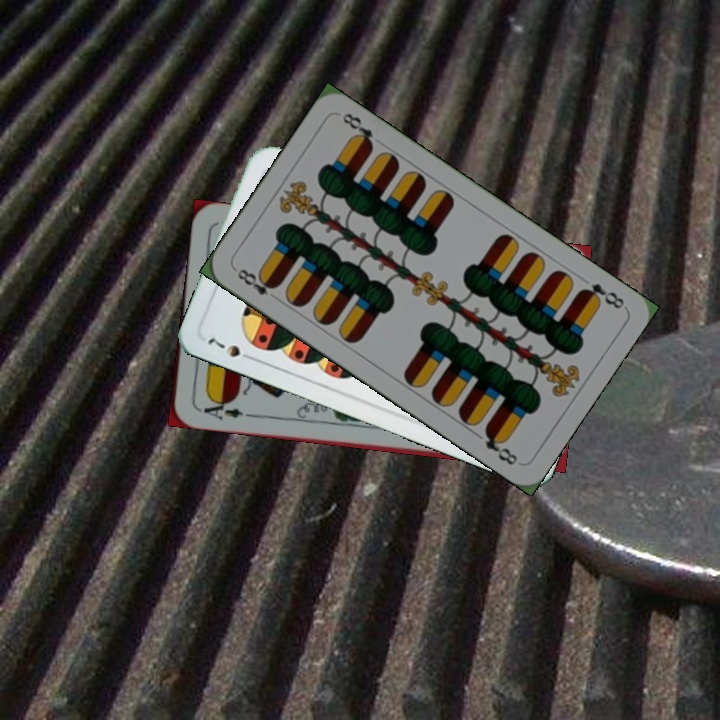E8: (231, 264, 281, 304), (575, 278, 627, 312)
EA: (194, 395, 246, 423)
S7: (203, 334, 258, 364)
